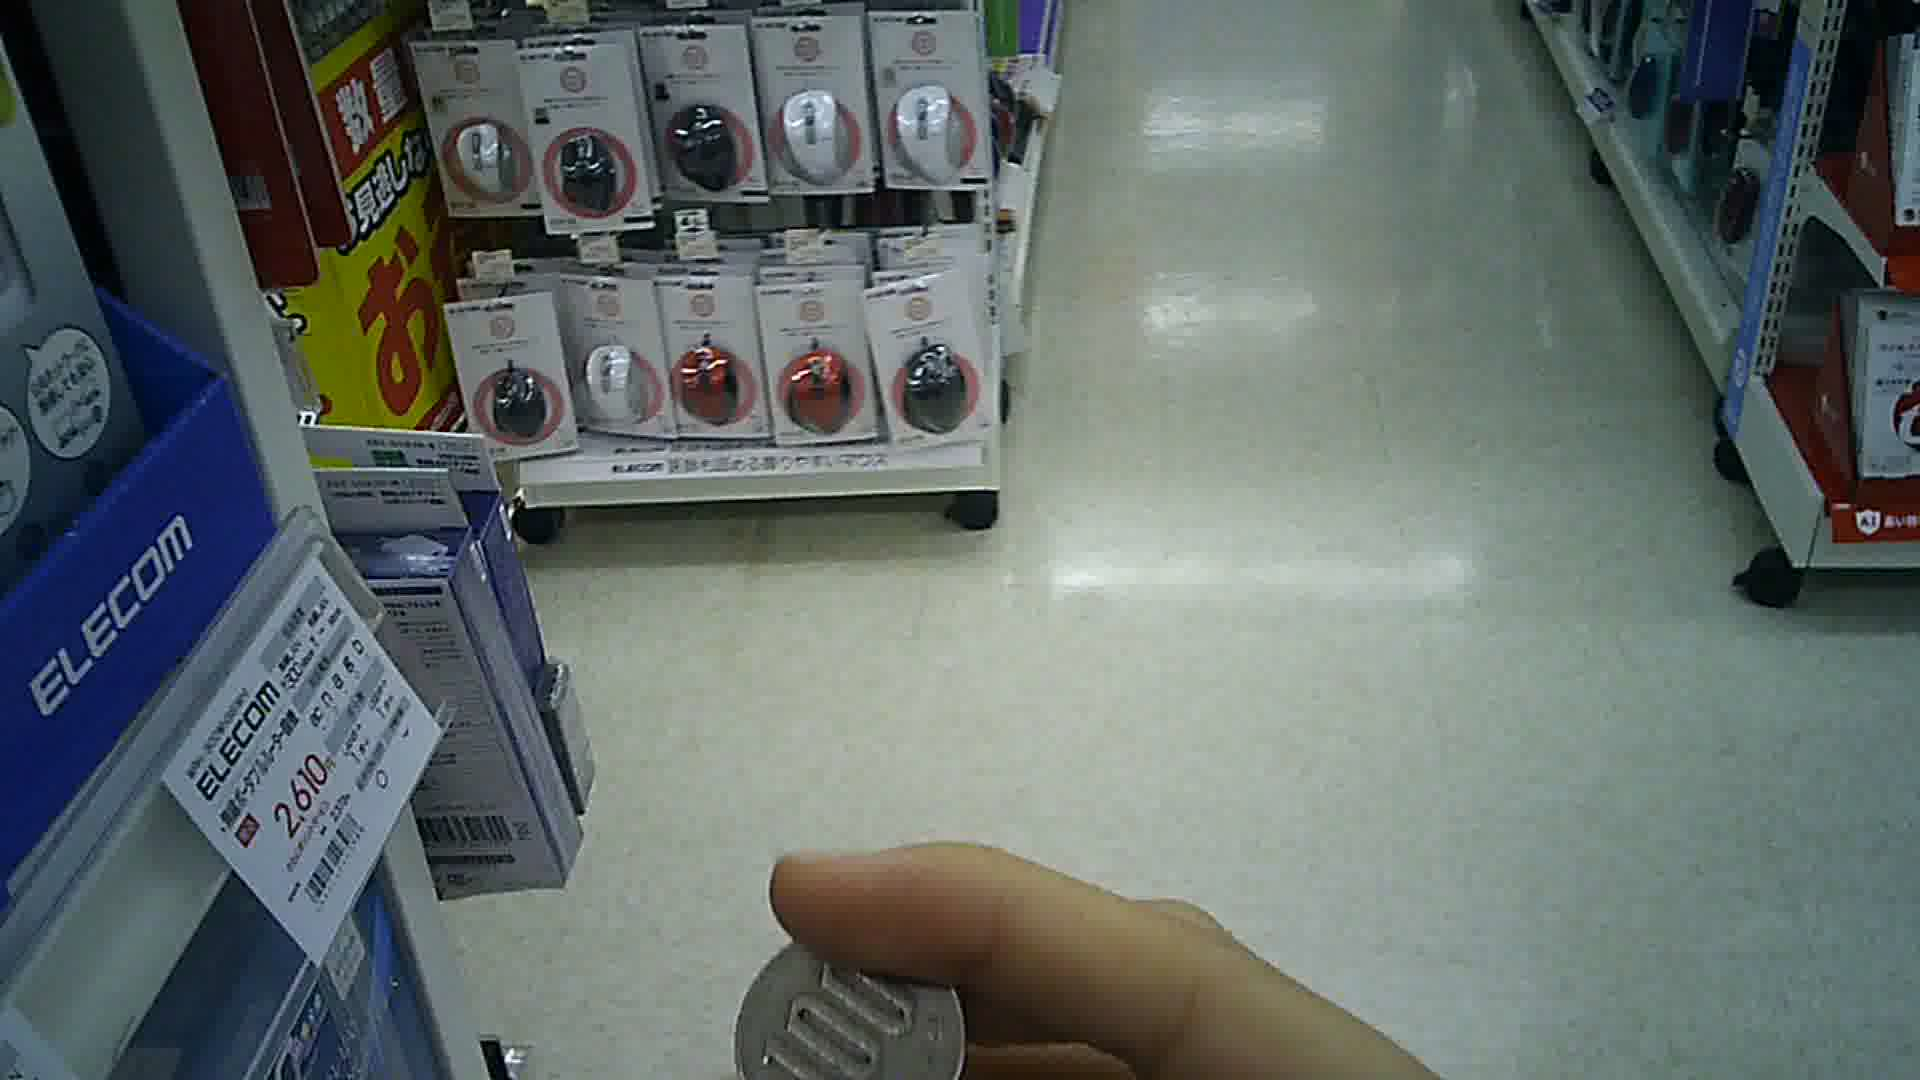100 Yen: (728, 930, 971, 1073)
